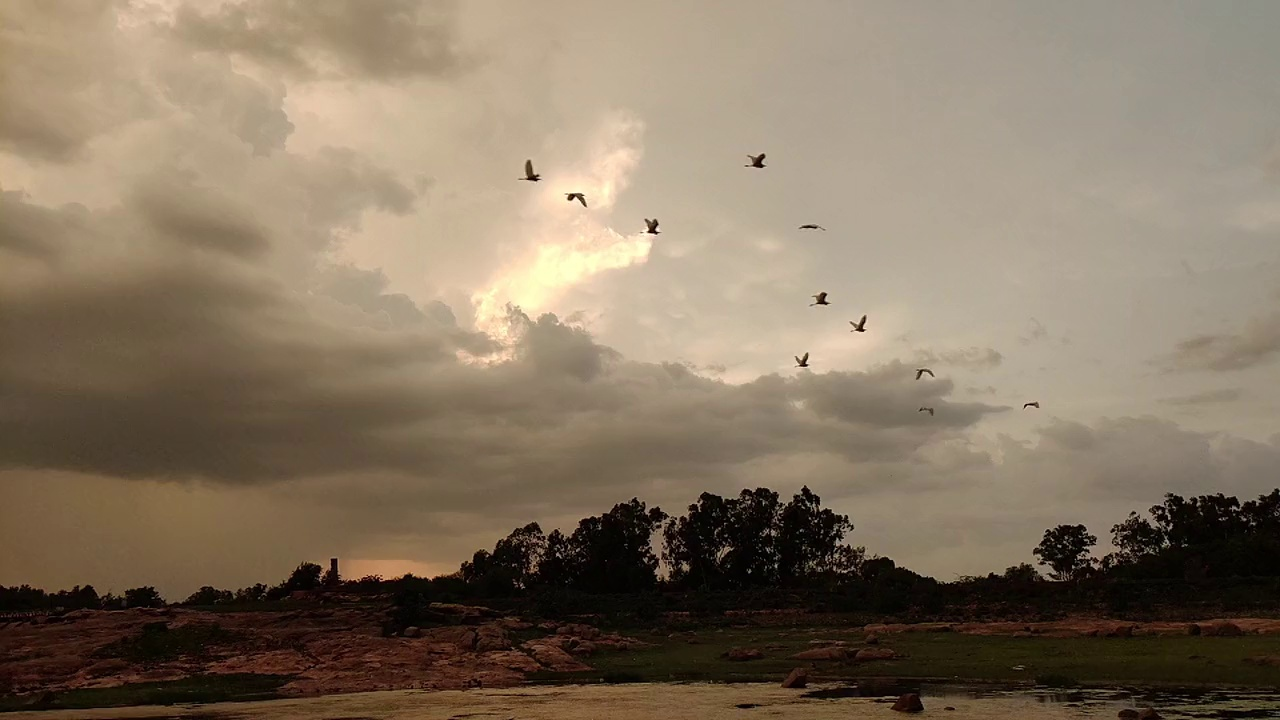bird: (518, 158, 540, 181), (564, 191, 591, 208), (744, 153, 768, 168), (849, 315, 869, 332), (808, 292, 831, 306), (640, 218, 661, 233), (791, 352, 811, 367), (914, 367, 934, 381), (797, 223, 824, 230), (917, 406, 934, 417), (1022, 401, 1038, 408)
